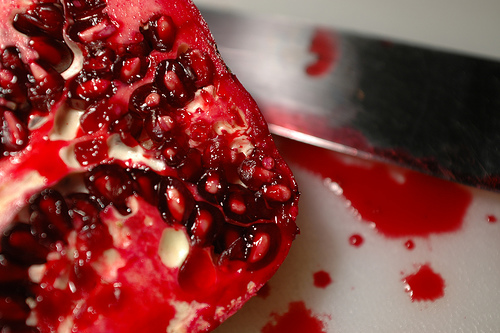pomogranate: (0, 0, 297, 332)
